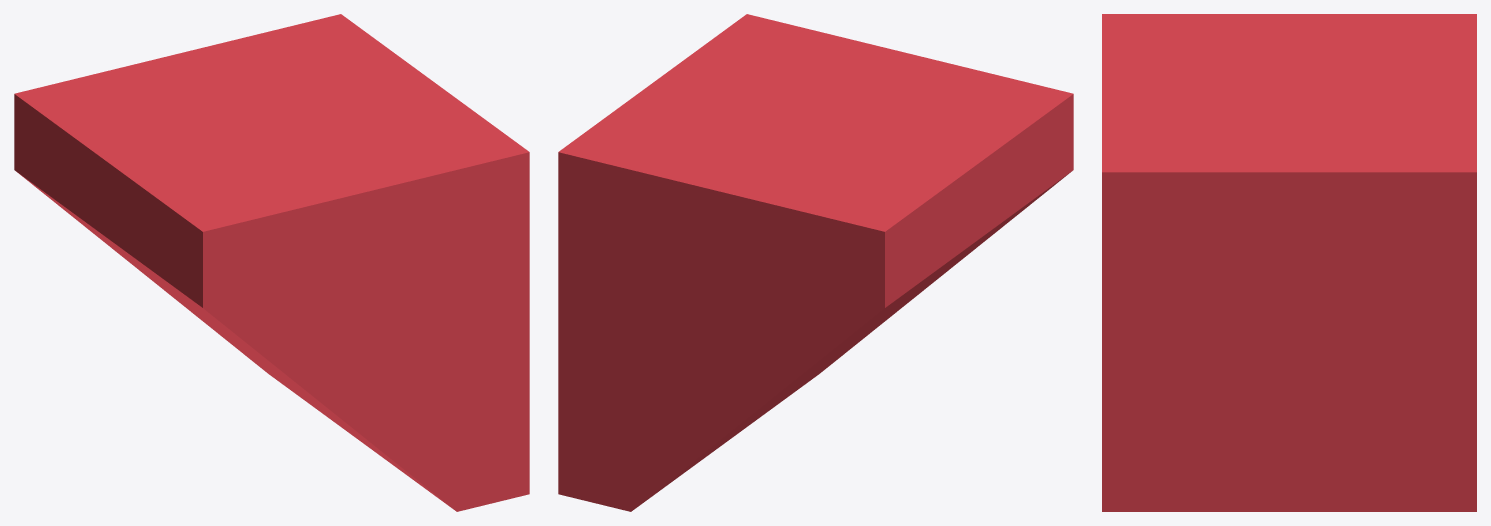
3 views of the same model, side by side, from view 1: azimuth 30°, elevation 25°; view 2: azimuth 150°, elevation 25°; view 3: azimuth 270°, elevation 25° (orthographic).
Visible parts, largest first — view 1: tmp_export_Cube.016; view 2: tmp_export_Cube.016; view 3: tmp_export_Cube.016.
Part boxes in pixels (box(x1,y1,x2,y2)): tmp_export_Cube.016: box(14, 14, 529, 511); tmp_export_Cube.016: box(558, 14, 1073, 511); tmp_export_Cube.016: box(1102, 14, 1476, 511).
Bounding box in the file's own units: 2 × 2 × 2.
